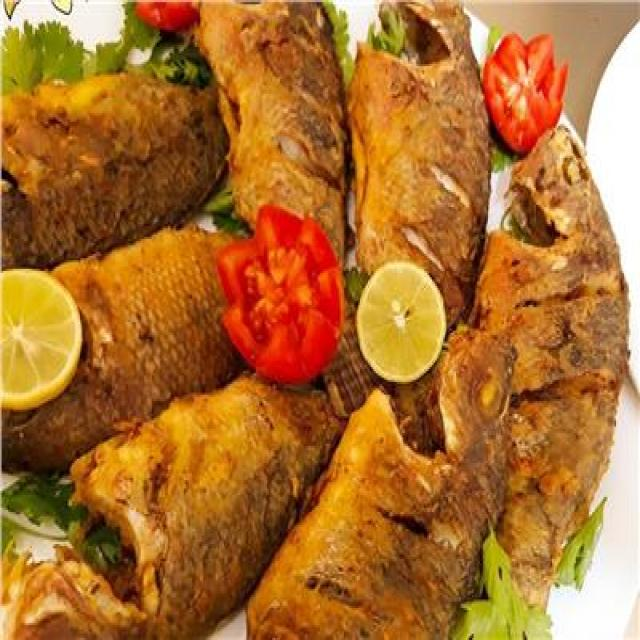Peixe: (0, 0, 632, 638), (3, 369, 341, 638), (243, 326, 517, 638), (468, 121, 630, 616), (0, 222, 240, 473), (344, 0, 491, 329), (0, 68, 229, 269), (192, 0, 349, 271)
